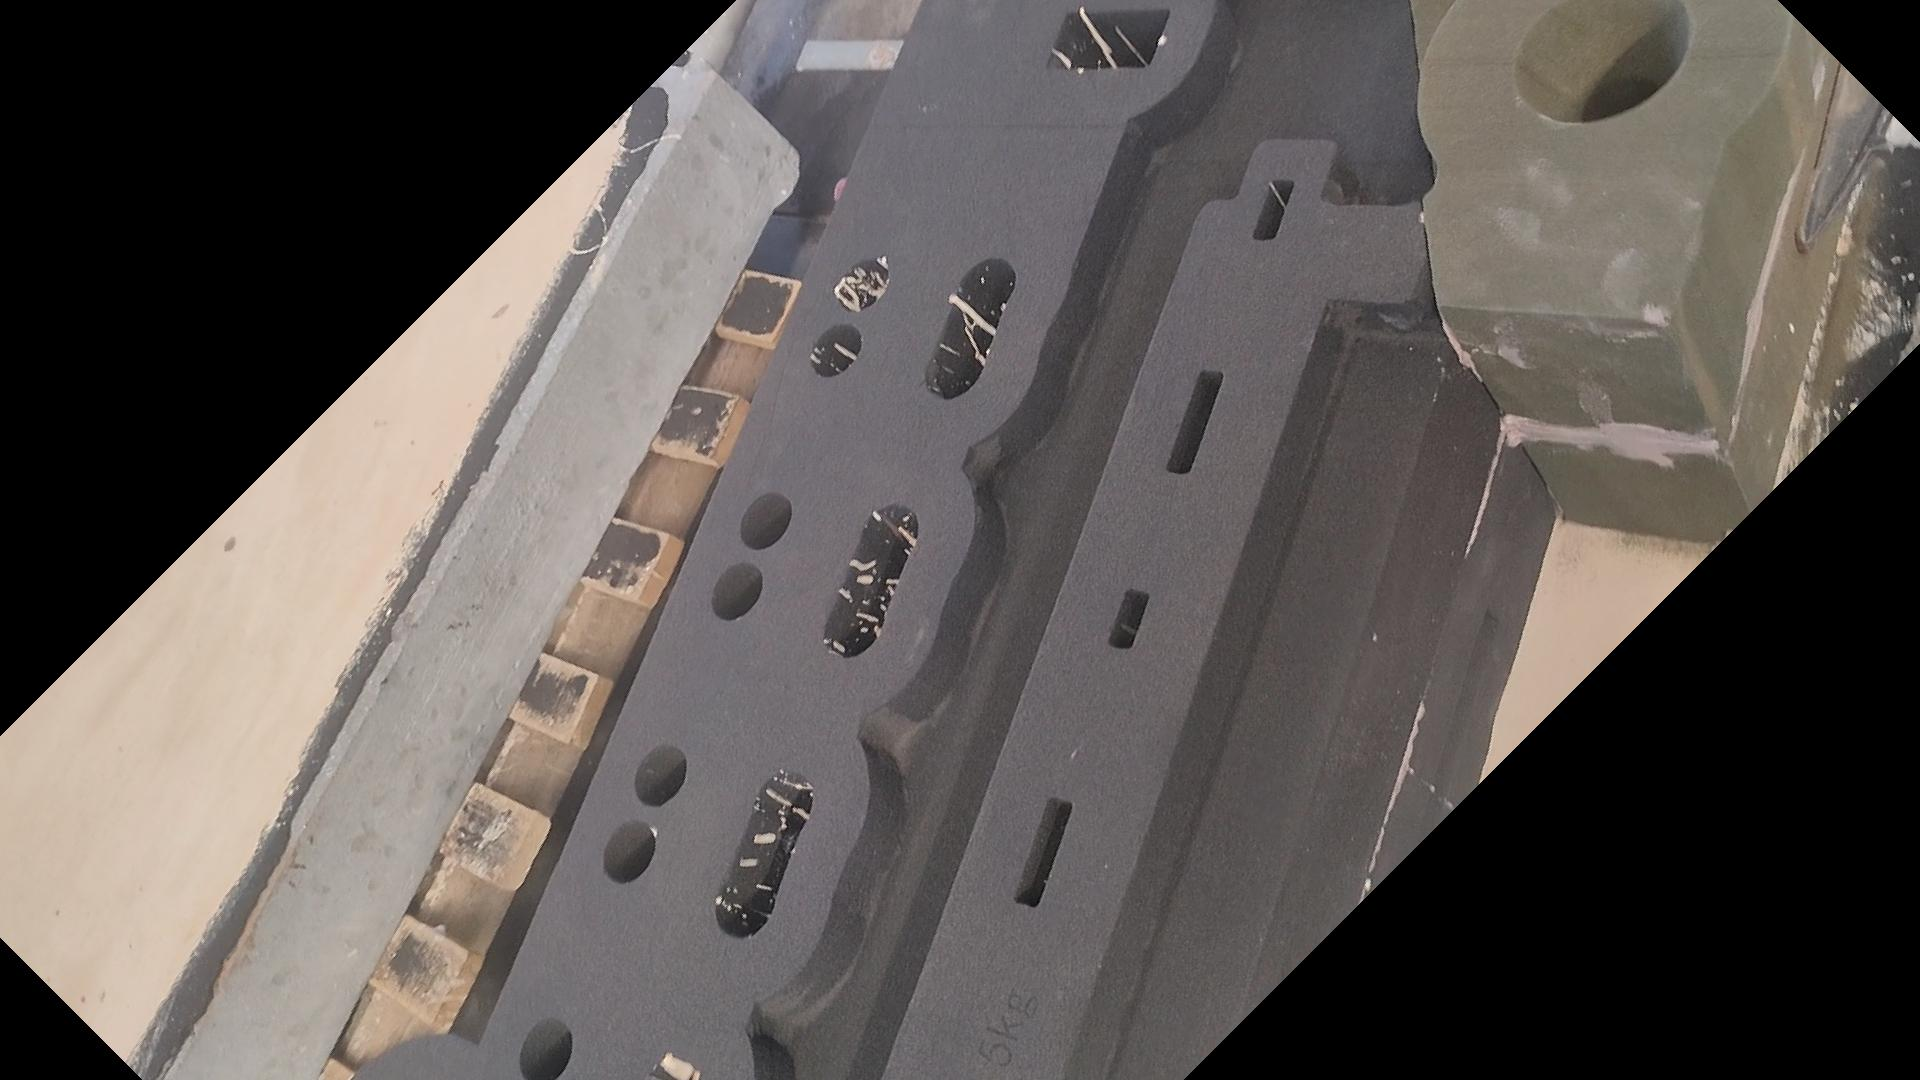pouring hole: (1513, 1, 1691, 124)
